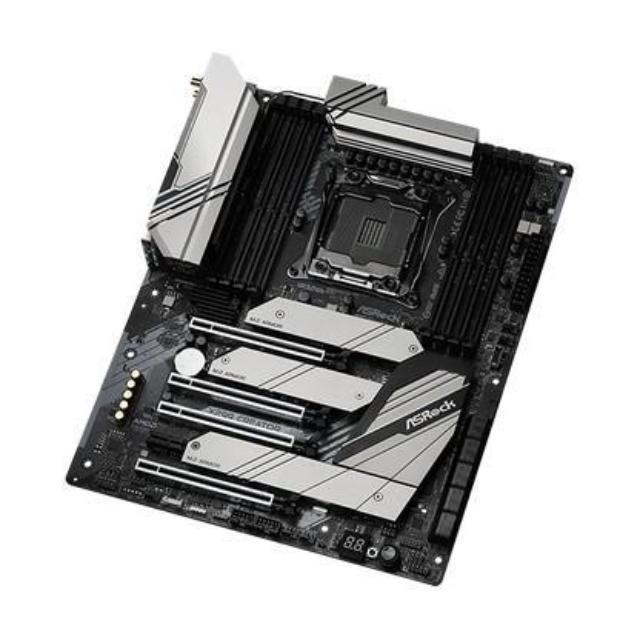Mainboard: (65, 50, 572, 588)
